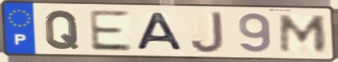9: (236, 11, 274, 55)
A: (134, 11, 186, 52)
E: (87, 9, 135, 53)
J: (189, 10, 227, 55)
M: (278, 13, 329, 54)
Q: (43, 9, 80, 51)
